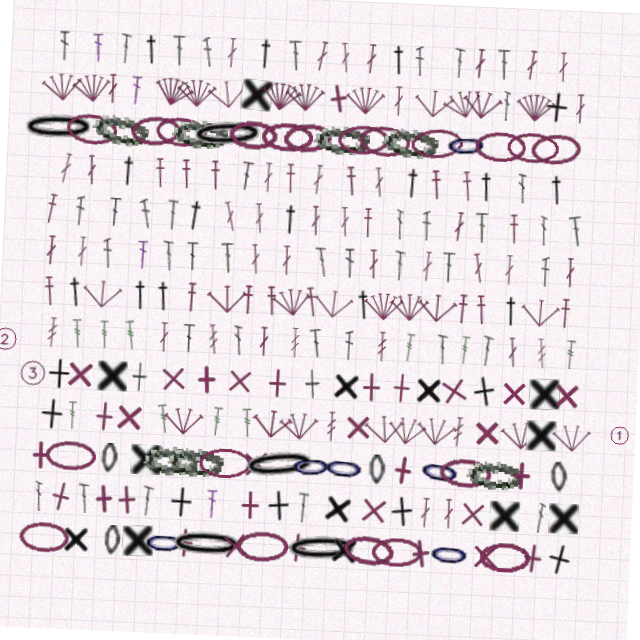chain: (247, 447, 325, 486), (181, 121, 258, 156), (294, 532, 370, 565), (13, 123, 88, 155), (179, 534, 254, 564), (83, 120, 142, 157), (351, 531, 405, 566), (149, 450, 206, 483), (402, 122, 456, 156), (374, 123, 431, 155), (57, 122, 110, 156), (522, 122, 575, 156), (274, 122, 326, 156), (350, 122, 403, 155), (122, 122, 174, 155), (147, 122, 199, 155), (445, 451, 498, 483), (164, 124, 220, 154), (306, 124, 362, 154), (174, 452, 230, 482), (473, 452, 529, 482), (329, 123, 381, 154), (499, 123, 551, 154), (28, 533, 80, 564), (246, 533, 298, 564), (205, 452, 258, 482), (220, 123, 271, 154), (51, 451, 102, 482), (424, 449, 469, 484), (253, 124, 305, 154), (467, 124, 518, 154), (381, 534, 432, 564), (489, 534, 540, 564), (437, 123, 480, 155), (329, 451, 372, 483), (296, 451, 339, 482), (438, 533, 481, 564), (153, 534, 195, 564), (556, 451, 575, 482), (107, 452, 124, 482), (375, 452, 392, 482), (114, 534, 130, 564)
double: (564, 205, 581, 236), (218, 205, 234, 236), (303, 41, 318, 72), (52, 164, 67, 195), (233, 164, 248, 195), (312, 246, 327, 277), (310, 328, 325, 359), (277, 42, 292, 72), (218, 247, 233, 277), (469, 246, 483, 277), (481, 328, 495, 359), (161, 42, 175, 72), (486, 42, 500, 72), (471, 206, 485, 236), (148, 493, 162, 523), (514, 41, 527, 72), (190, 42, 203, 72), (104, 206, 117, 236), (135, 206, 148, 236), (161, 206, 174, 236), (440, 247, 453, 277), (304, 493, 317, 523), (108, 42, 120, 72), (328, 42, 340, 72), (354, 42, 366, 72), (442, 42, 454, 72), (463, 42, 475, 72), (306, 165, 318, 195), (367, 165, 379, 195), (249, 206, 261, 236), (449, 206, 461, 236), (160, 247, 172, 277), (184, 247, 196, 277), (247, 247, 259, 277), (391, 247, 403, 277), (419, 247, 431, 277), (184, 329, 196, 359), (508, 329, 520, 359), (86, 493, 98, 523), (81, 42, 92, 72), (215, 42, 226, 72), (121, 83, 132, 113), (80, 165, 91, 195), (306, 206, 317, 236), (335, 206, 346, 236), (43, 247, 54, 277), (74, 247, 85, 277), (342, 247, 353, 277), (438, 329, 449, 359), (428, 493, 439, 523), (543, 493, 554, 523), (48, 42, 58, 72), (547, 42, 557, 72), (98, 83, 108, 113), (384, 83, 394, 113), (566, 83, 576, 113), (257, 165, 267, 195), (100, 247, 110, 277), (135, 247, 145, 277), (279, 247, 289, 277), (366, 247, 376, 277), (502, 247, 512, 277), (563, 247, 573, 277), (160, 329, 170, 359), (260, 329, 270, 359), (215, 493, 225, 523), (452, 493, 462, 523), (404, 42, 413, 72), (71, 206, 80, 236), (418, 206, 427, 236), (493, 83, 501, 113), (512, 165, 520, 195), (539, 247, 547, 277), (235, 329, 243, 359), (346, 329, 354, 359), (392, 206, 399, 236), (536, 206, 543, 236), (43, 493, 50, 523)
fan: (430, 78, 476, 117), (141, 79, 187, 117), (196, 80, 239, 115), (61, 80, 103, 115), (270, 285, 312, 320), (250, 81, 293, 115), (391, 409, 433, 443), (31, 81, 73, 114), (452, 81, 494, 114), (312, 286, 354, 319), (256, 409, 298, 442), (368, 409, 410, 442), (420, 409, 462, 442), (404, 82, 445, 114), (506, 82, 547, 114), (283, 410, 324, 442), (505, 410, 546, 442), (556, 410, 597, 442), (275, 82, 316, 113), (81, 287, 122, 318), (206, 287, 247, 318), (416, 287, 457, 318), (389, 287, 429, 318), (520, 287, 560, 318), (167, 83, 207, 113), (336, 83, 376, 113), (363, 288, 403, 318), (168, 411, 208, 441)
half_double: (180, 205, 201, 237), (397, 164, 416, 195), (65, 287, 84, 318), (245, 41, 263, 72), (113, 164, 131, 195), (131, 42, 149, 72), (542, 165, 560, 195), (277, 206, 295, 236), (354, 288, 372, 318), (379, 42, 396, 72), (472, 165, 489, 195), (131, 288, 148, 318), (154, 288, 171, 318), (502, 288, 519, 318), (303, 287, 319, 318), (39, 205, 54, 236), (339, 165, 352, 195), (424, 165, 437, 195), (455, 165, 468, 195), (42, 288, 55, 318), (474, 288, 487, 318), (148, 165, 160, 195), (174, 165, 186, 195), (203, 165, 215, 195), (504, 206, 516, 236), (265, 288, 277, 318), (456, 288, 468, 318), (279, 165, 290, 195), (358, 206, 369, 236), (185, 288, 196, 318), (242, 288, 253, 318), (559, 288, 570, 318)
noise: (20, 370, 50, 400), (0, 339, 19, 365), (613, 411, 635, 433)
single: (439, 367, 475, 403), (51, 490, 86, 525), (312, 81, 346, 115), (228, 532, 262, 566), (414, 532, 448, 566), (393, 450, 425, 483), (231, 82, 263, 114), (160, 369, 192, 401), (96, 492, 128, 524), (119, 492, 151, 524), (366, 492, 398, 524), (527, 533, 559, 565), (331, 491, 362, 524), (67, 369, 98, 400), (194, 369, 225, 400), (227, 369, 258, 400), (389, 369, 420, 400), (532, 369, 563, 400), (93, 410, 124, 441), (118, 410, 149, 441), (347, 410, 378, 441), (476, 410, 507, 441), (247, 451, 278, 482), (132, 533, 163, 564), (179, 533, 210, 564), (291, 533, 322, 564), (555, 532, 583, 566), (466, 492, 496, 523), (473, 368, 501, 401), (100, 370, 130, 400), (265, 370, 295, 400), (359, 370, 389, 400), (502, 370, 532, 400), (531, 411, 561, 441), (32, 452, 62, 482), (137, 452, 167, 482), (513, 452, 543, 482), (243, 493, 273, 523), (498, 493, 528, 523), (557, 493, 587, 523), (480, 534, 510, 564), (335, 369, 364, 400), (340, 533, 369, 564), (555, 370, 584, 400), (418, 370, 446, 400), (72, 534, 100, 564), (397, 492, 423, 524), (274, 492, 299, 523), (535, 82, 559, 113), (44, 410, 68, 441), (177, 493, 201, 523), (50, 370, 73, 400), (307, 369, 324, 400), (135, 370, 150, 400)
treble: (161, 410, 176, 441), (125, 328, 138, 359), (72, 329, 85, 359), (208, 329, 221, 359), (404, 329, 417, 359), (215, 411, 228, 441), (47, 329, 59, 359), (460, 329, 472, 359), (537, 329, 549, 359), (246, 411, 258, 441), (457, 411, 469, 441), (100, 329, 111, 359), (566, 329, 577, 359), (291, 329, 301, 359), (378, 329, 388, 359), (72, 411, 82, 441), (331, 411, 341, 441)
